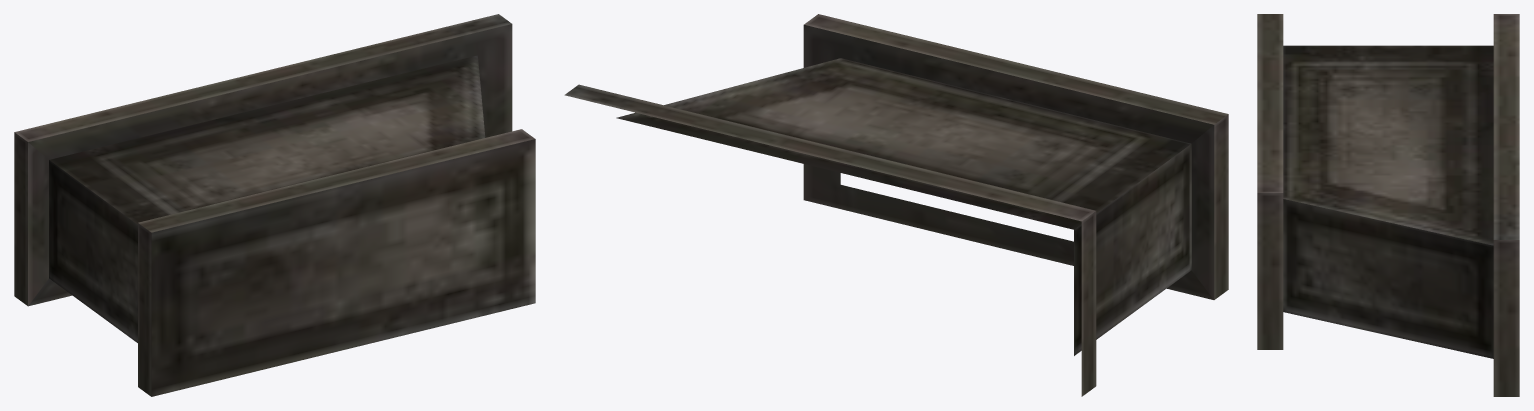
3 views of the same model, side by side, from view 1: azimuth 30°, elevation 25°; view 2: azimuth 150°, elevation 25°; view 3: azimuth 270°, elevation 25° (orthographic). The views are drawn at different scales.
Visible parts, largest first — view 1: model_Object46; view 2: model_Object46; view 3: model_Object46.
Part boxes in pixels (x1,y1,x2,y2): model_Object46: [14, 14, 535, 396]; model_Object46: [564, 14, 1228, 396]; model_Object46: [1257, 14, 1519, 396].
Size of the model in its own units: 1.45 by 0.4694 by 0.7113.
1 material, 1 textured.
